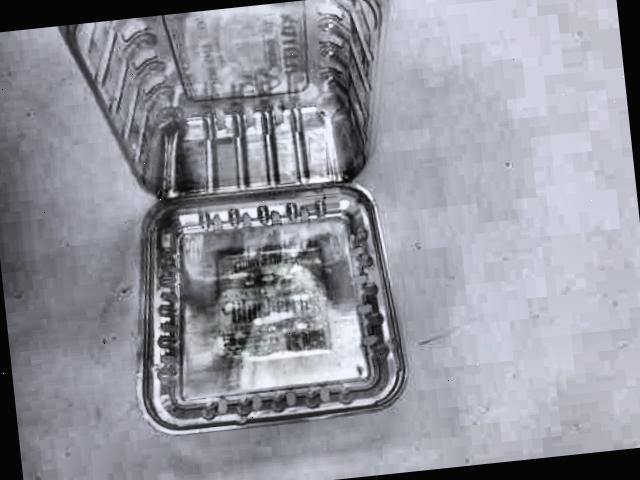Plastic: (58, 0, 467, 460)
